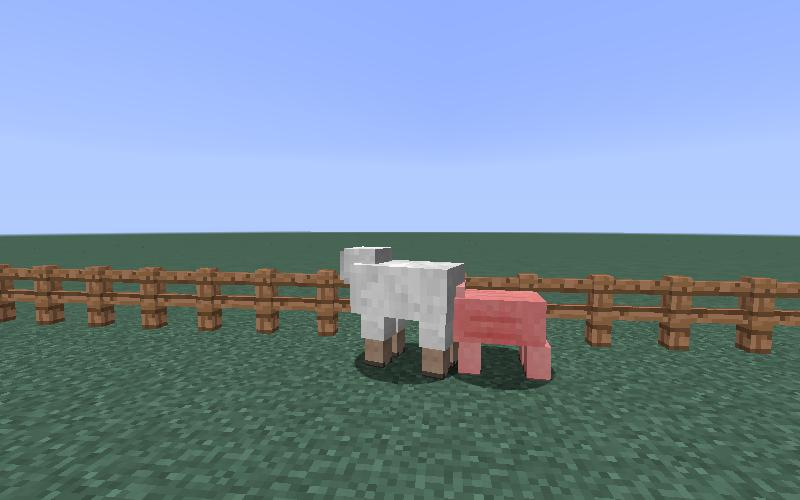pig: (456, 284, 556, 383)
sheep: (335, 242, 466, 382)
